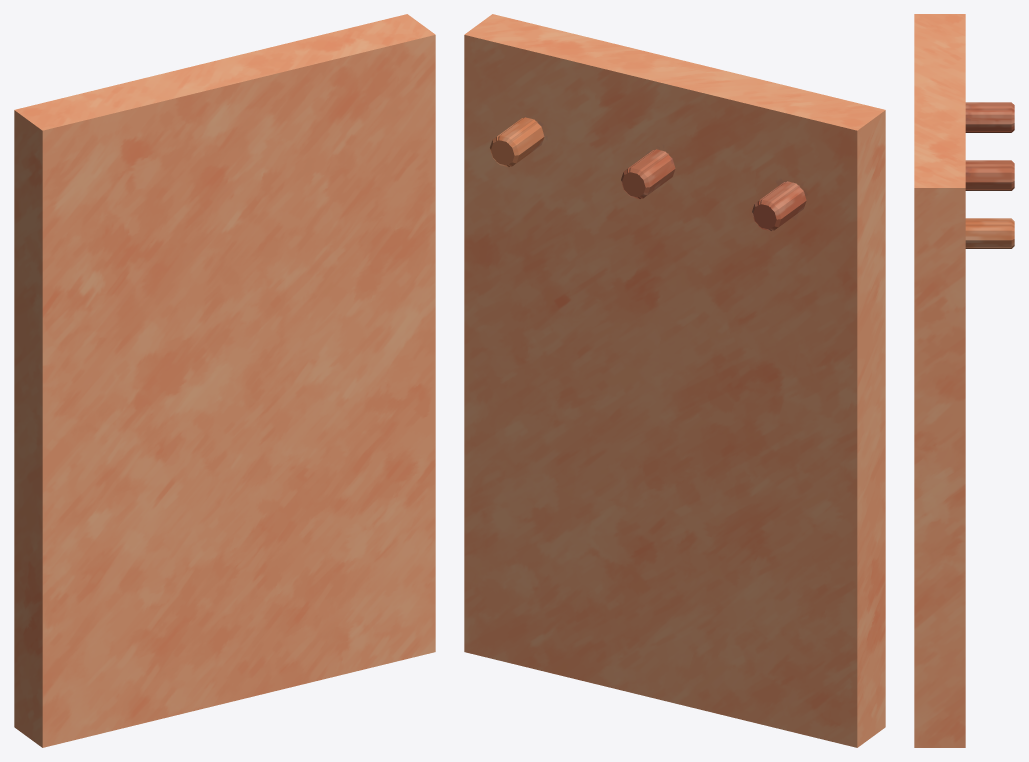
Rendered from wall_upper.bundle.fbx.
The picture shows the model from 3 angles, left to right: view 1: azimuth 30°, elevation 25°; view 2: azimuth 150°, elevation 25°; view 3: azimuth 270°, elevation 25°; orthographic projection. The views are drawn at different scales.
Visible parts, largest first — view 1: wall_upper, wall_upper_s02, wall_upper_s04, wall_upper_s10, wall_upper_s03, wall_upper_s00, wall_upper_s05, wall_upper_s06, wall_upper_s09, wall_upper_s11, wall_upper_s01, wall_upper_s08 (+1 smaller); view 2: wall_upper, wall_upper_s08, wall_upper_s03, wall_upper_s10, wall_upper_s07, wall_upper_s06, wall_upper_s11, wall_upper_s05, wall_upper_s01, wall_upper_s02, wall_upper_s00, wall_upper_s09 (+2 smaller); view 3: wall_upper, wall_upper_s10, wall_upper_s08, wall_upper_s00, wall_upper_s04, wall_upper_s05, wall_upper_s07, wall_upper_low.
Part boxes in pixels (left/top/right/bottom): wall_upper: left=14, top=14, right=435, bottom=747; wall_upper_s02: left=14, top=243, right=191, bottom=456; wall_upper_s04: left=27, top=81, right=254, bottom=269; wall_upper_s10: left=314, top=14, right=435, bottom=272; wall_upper_s03: left=14, top=530, right=251, bottom=747; wall_upper_s00: left=134, top=23, right=404, bottom=192; wall_upper_s05: left=293, top=259, right=435, bottom=435; wall_upper_s06: left=14, top=373, right=211, bottom=560; wall_upper_s09: left=159, top=304, right=303, bottom=440; wall_upper_s11: left=14, top=107, right=105, bottom=305; wall_upper_s01: left=188, top=167, right=318, bottom=303; wall_upper_s08: left=234, top=487, right=435, bottom=695; wall_upper: left=464, top=14, right=885, bottom=747; wall_upper_s08: left=464, top=469, right=694, bottom=698; wall_upper_s03: left=663, top=538, right=885, bottom=747; wall_upper_s10: left=464, top=14, right=570, bottom=295; wall_upper_s07: left=464, top=363, right=687, bottom=528; wall_upper_s06: left=673, top=348, right=885, bottom=569; wall_upper_s11: left=773, top=111, right=885, bottom=336; wall_upper_s05: left=464, top=287, right=610, bottom=424; wall_upper_s01: left=572, top=151, right=730, bottom=328; wall_upper_s02: left=721, top=263, right=885, bottom=445; wall_upper_s00: left=499, top=22, right=748, bottom=169; wall_upper_s09: left=629, top=344, right=720, bottom=428; wall_upper: left=914, top=14, right=1014, bottom=747; wall_upper_s10: left=914, top=172, right=965, bottom=423; wall_upper_s08: left=914, top=582, right=965, bottom=747; wall_upper_s00: left=914, top=66, right=965, bottom=174; wall_upper_s04: left=914, top=14, right=965, bottom=69; wall_upper_s05: left=914, top=404, right=965, bottom=553; wall_upper_s07: left=914, top=544, right=965, bottom=585; wall_upper_low: left=965, top=104, right=1014, bottom=248.
Bounding box in the file's own units: 8 × 12 × 1.95.
1 material, 1 textured.
